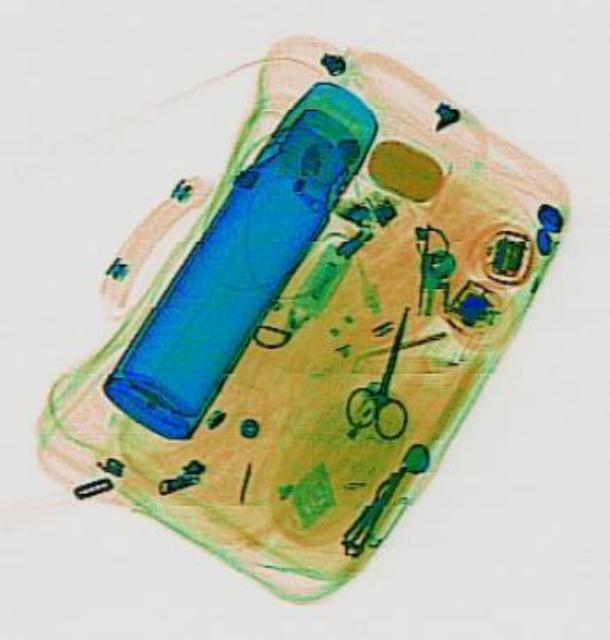Scissors: (335, 294, 434, 441)
